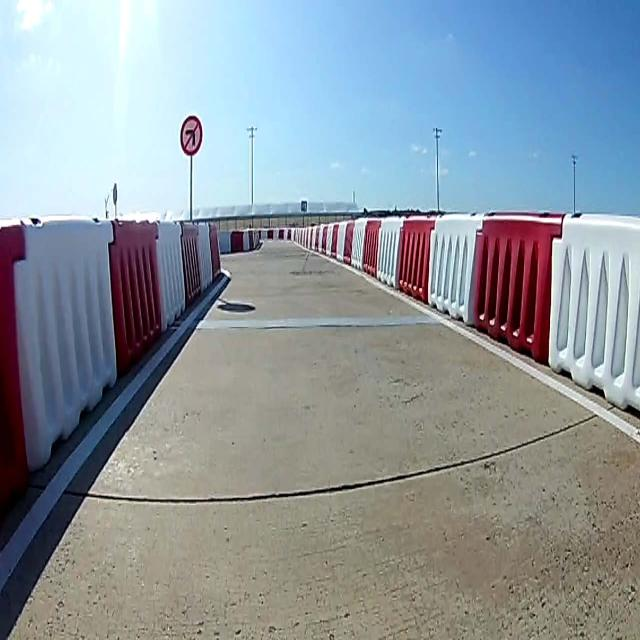soladonulmez: (180, 113, 202, 160)
